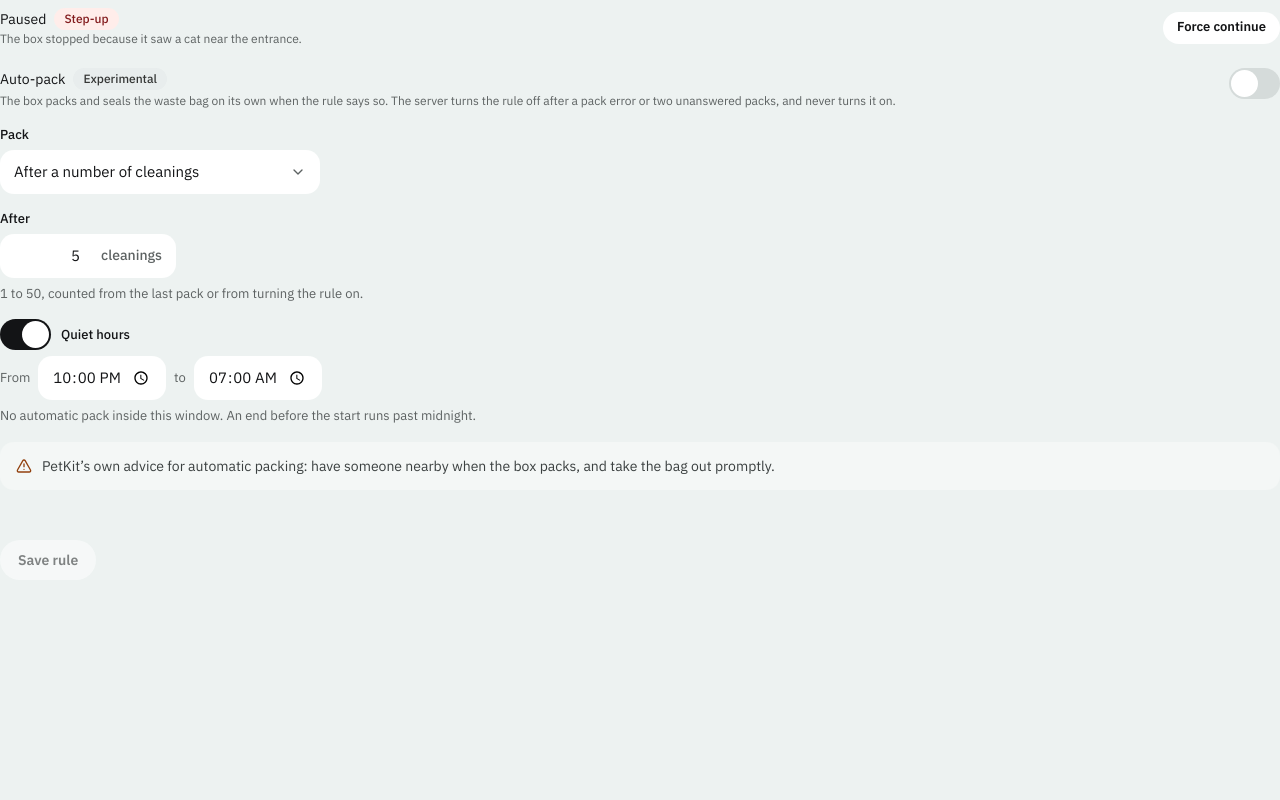
Force continue › shows the server sentence when a guard refuses at send time
Click the button "Force continue" at (1222, 28), box [1163,12,1279,44]
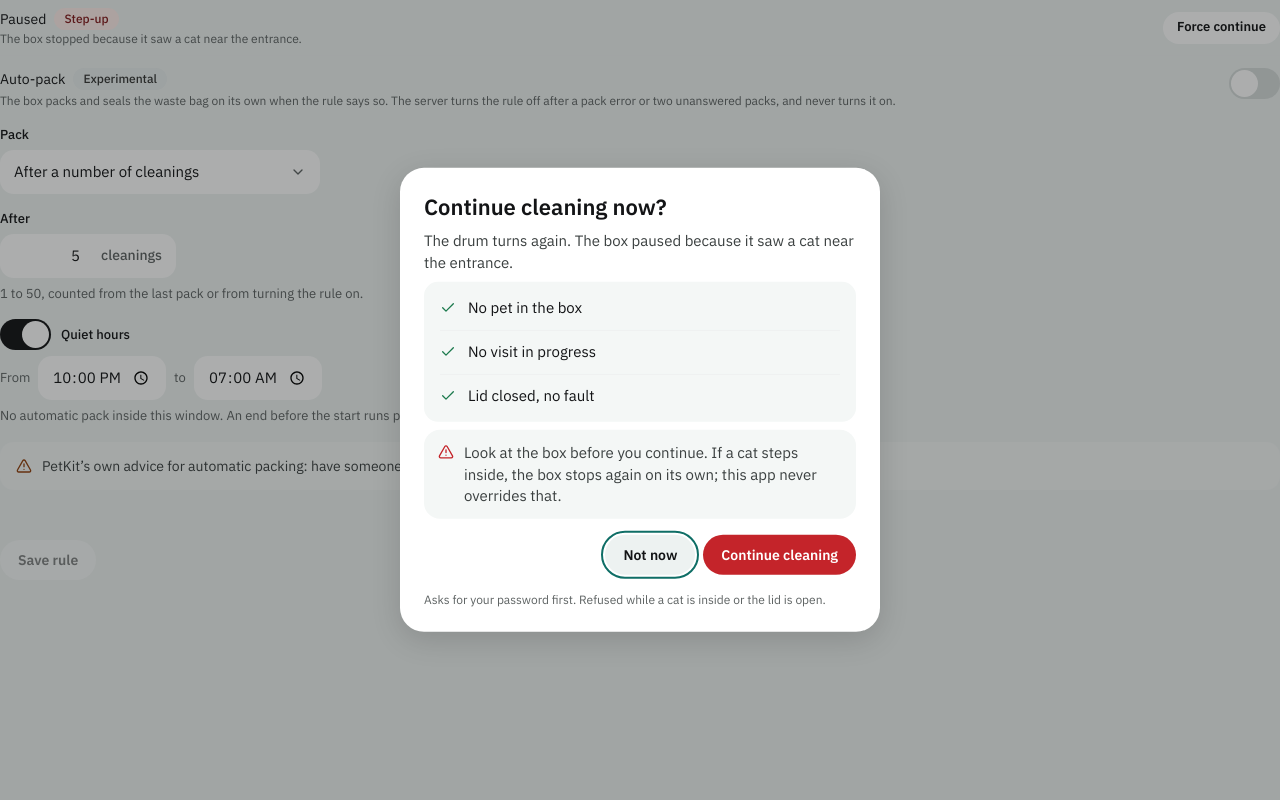
Click the button "Continue cleaning" at (780, 555), box [703,535,856,575]
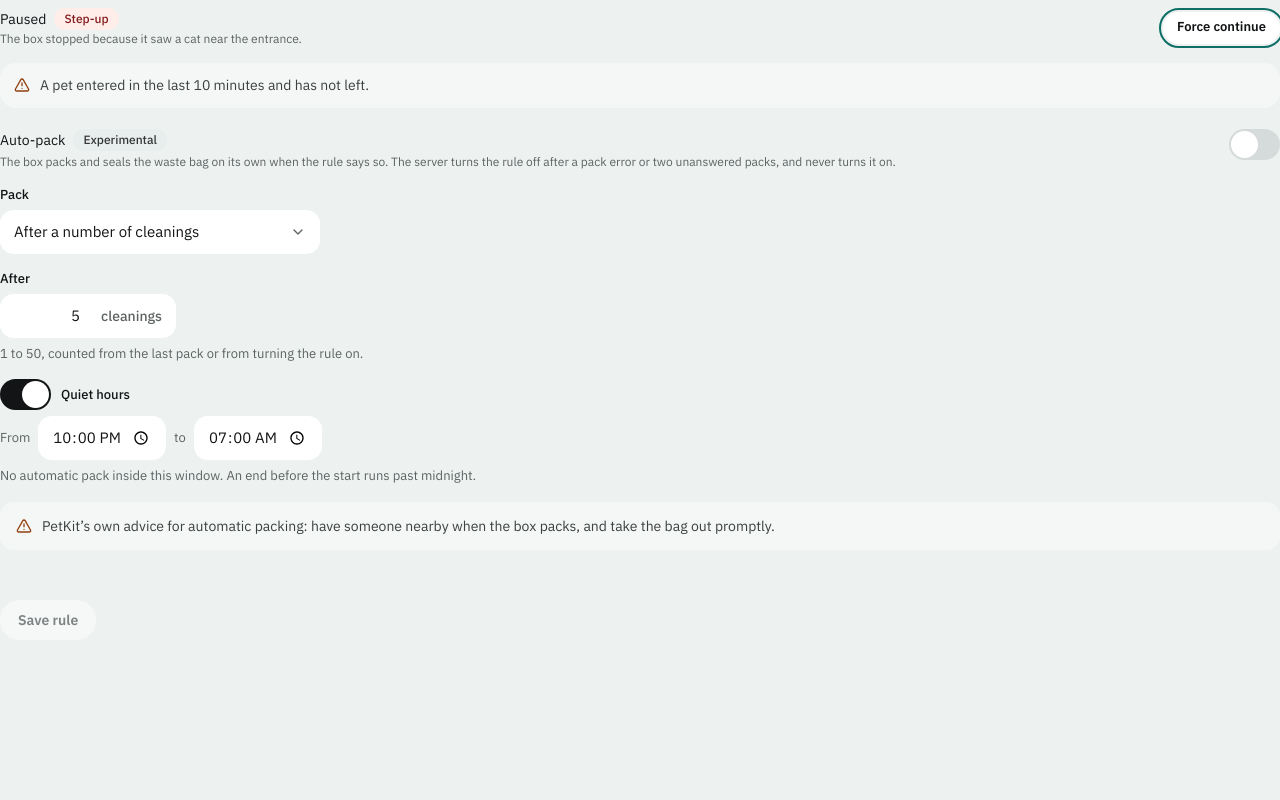
Result: the message "A pet entered in the last 10 minutes and has not left." is shown at [0,63,1279,108]
